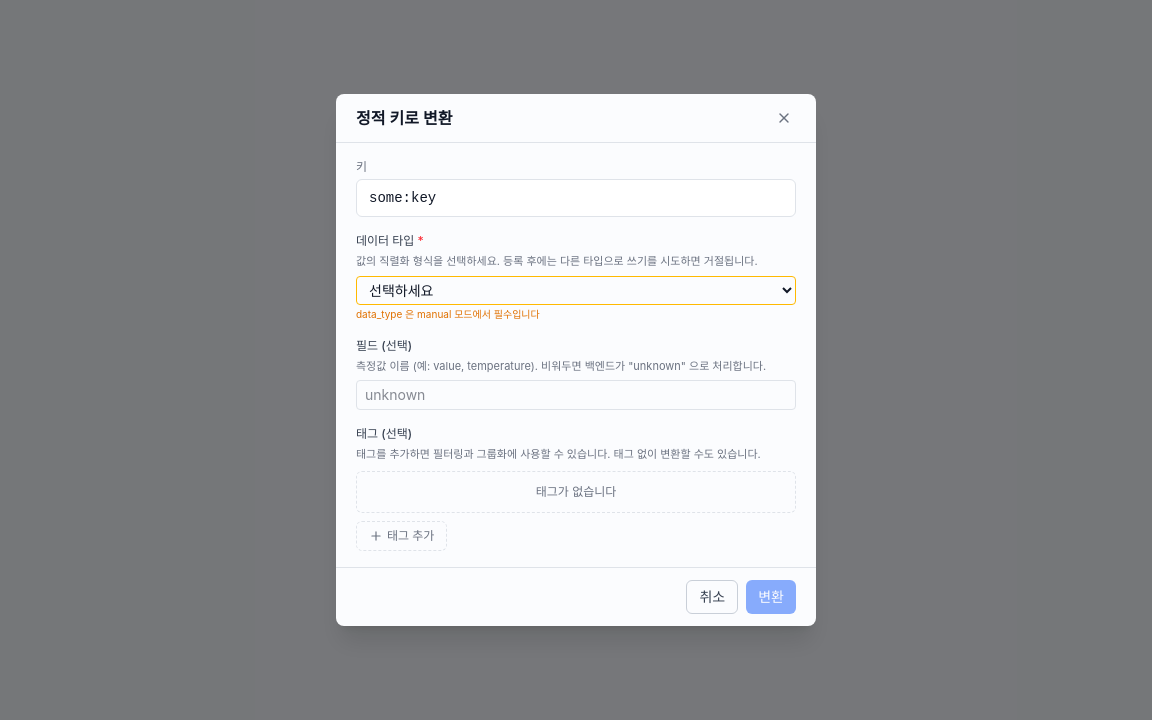
Scenario: PromoteToStaticDialog › 태그 키만 입력하고 값을 비워두면 변환 버튼이 비활성화된다
Select "int" in the dropdown labelled "데이터 타입 *". click: (576, 290)
box: [356,276,796,305]
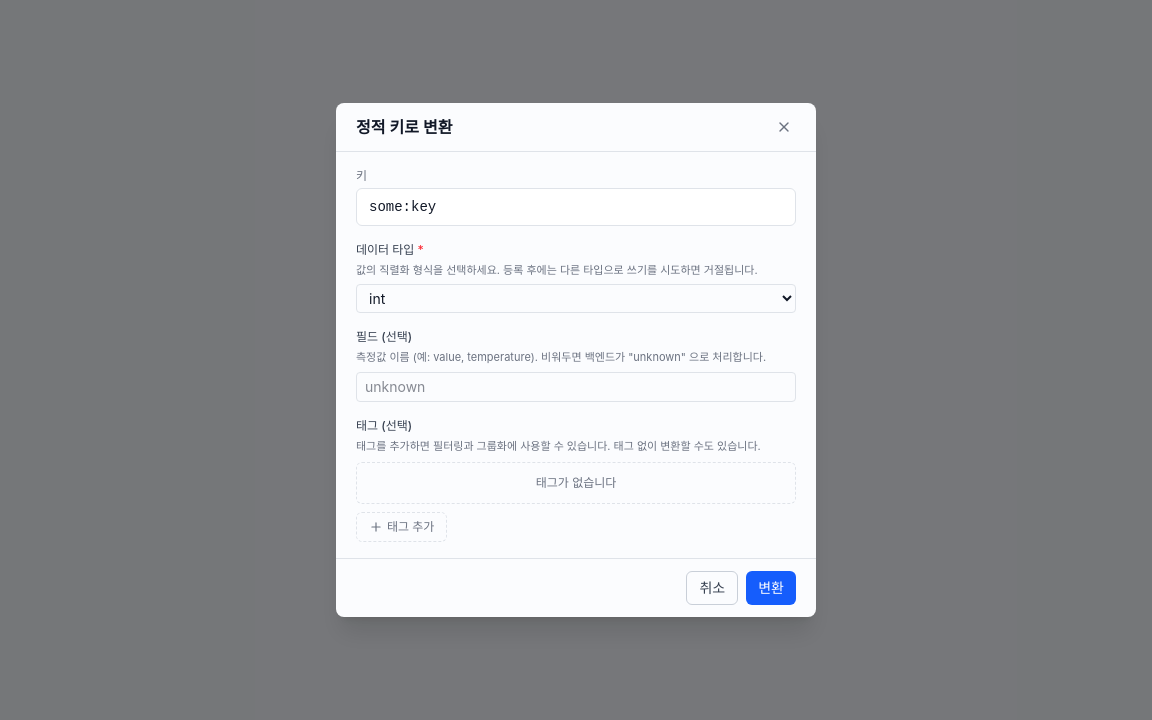
Click the button "태그 추가". click: (402, 527)
box: [356,512,447,542]
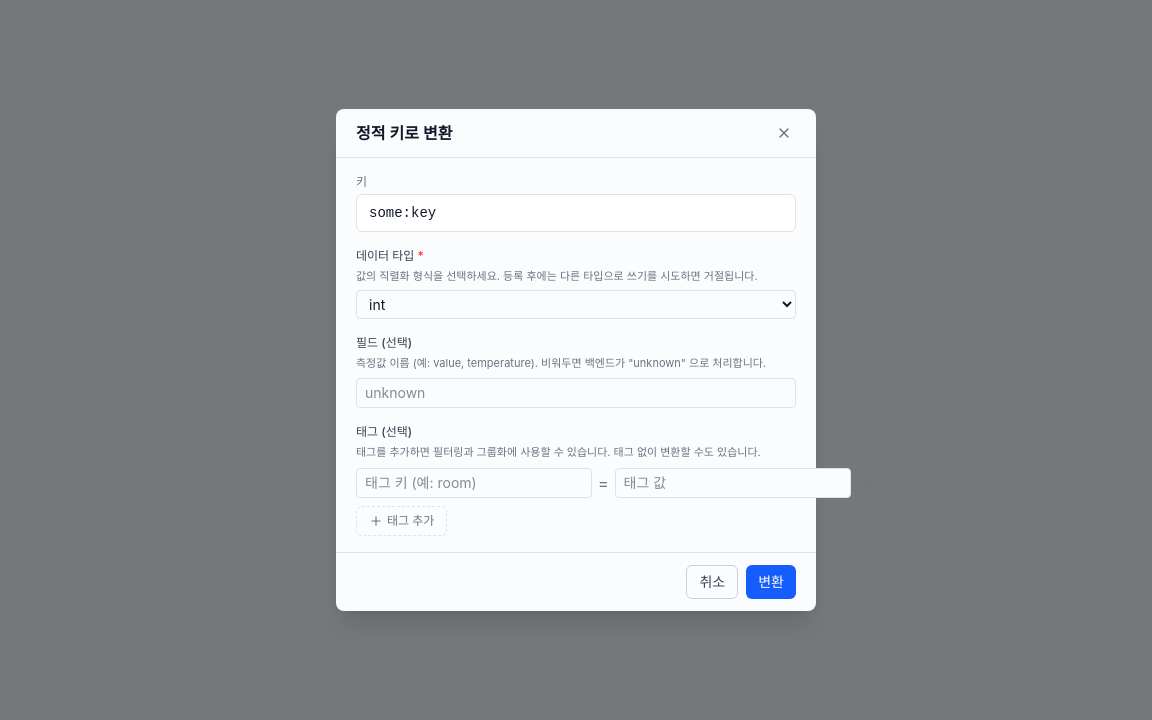
Type "room" into the field labelled "태그 키". click: (474, 483)
box: [356,468,592,498]
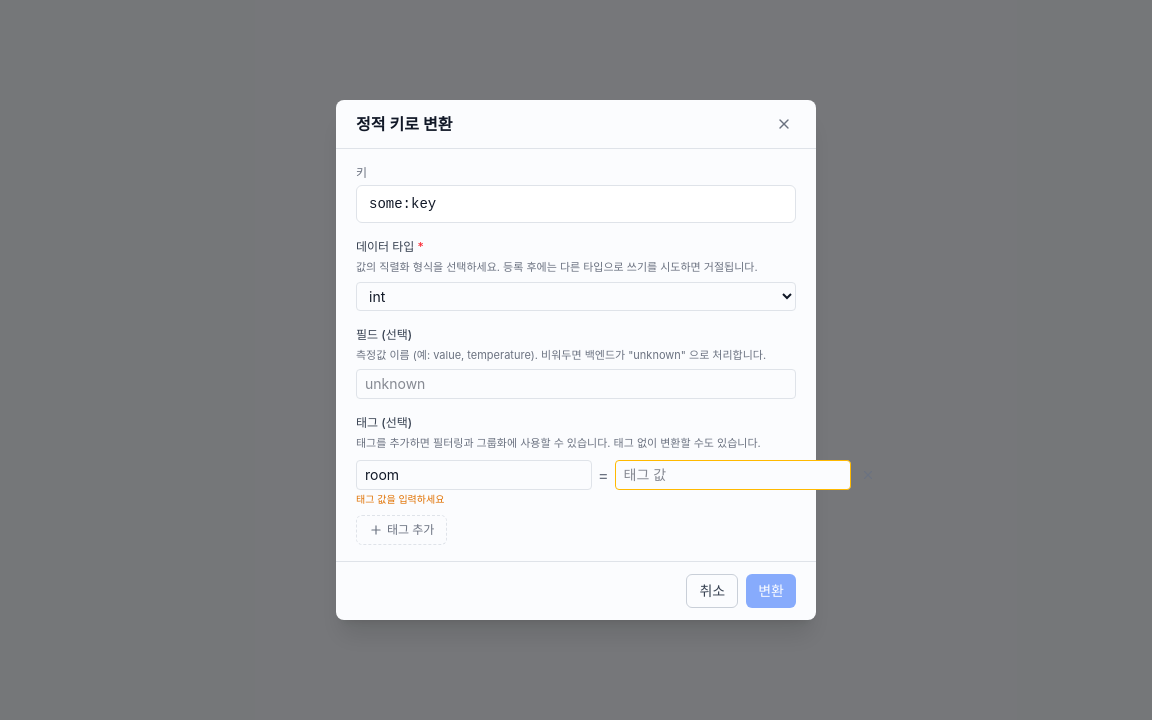
Expected: the text "태그 값을 입력하세요" is shown, [356,493,444,505]
Expected: the button "변환" is disabled, [746,574,796,608]
